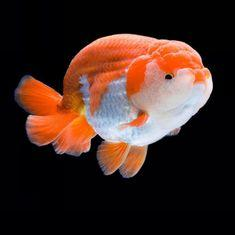goldfish: (28, 22, 223, 186)
